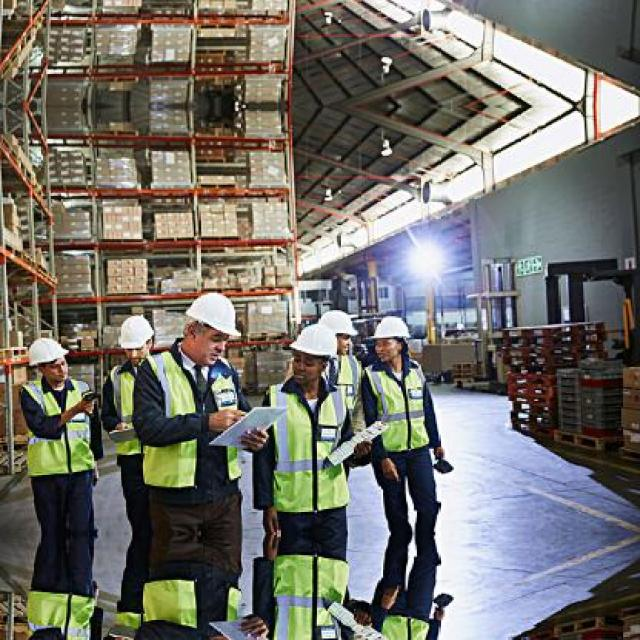helmet: (182, 290, 240, 362), (289, 323, 336, 382), (370, 314, 412, 362), (27, 335, 71, 379), (119, 312, 155, 365), (320, 311, 357, 357)
